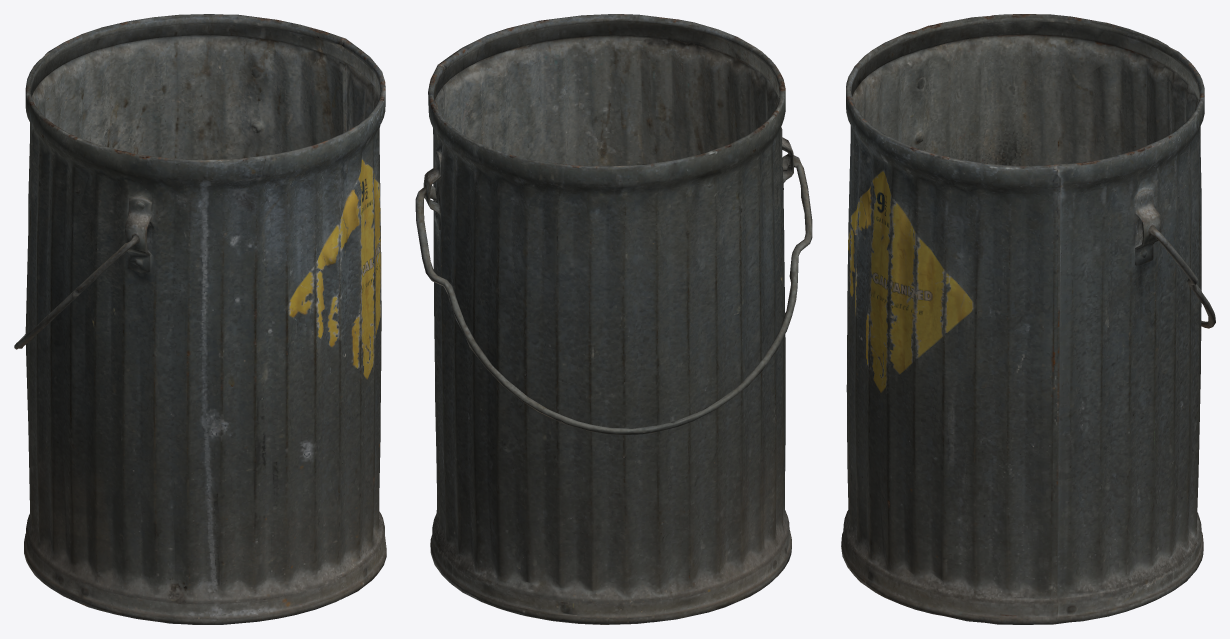
3 views of the same model, side by side, from view 1: azimuth 30°, elevation 25°; view 2: azimuth 150°, elevation 25°; view 3: azimuth 270°, elevation 25° (orthographic).
Visible parts, largest first — view 1: Aset_misc__M_ucmndaefa_LOD0_2; view 2: Aset_misc__M_ucmndaefa_LOD0_2; view 3: Aset_misc__M_ucmndaefa_LOD0_2.
Boxes of the visible parts, x1,y1,x2,y2 form: Aset_misc__M_ucmndaefa_LOD0_2: (14,14,386,624); Aset_misc__M_ucmndaefa_LOD0_2: (415,14,812,624); Aset_misc__M_ucmndaefa_LOD0_2: (841,14,1215,624).
Bounding box in the file's own units: 0.3578 × 0.4772 × 0.3493.
1 material, 1 textured.
